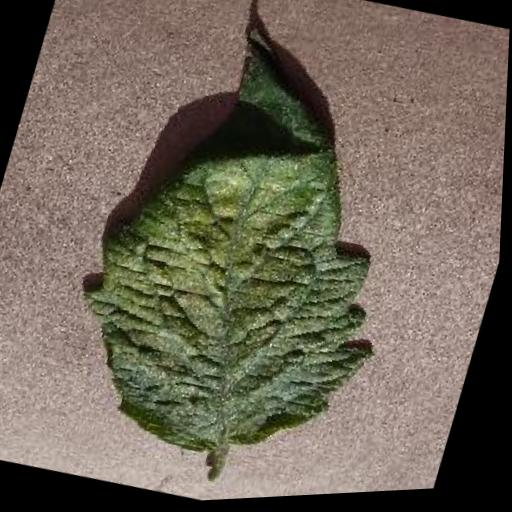Spider Mites: (51, 0, 460, 492)
